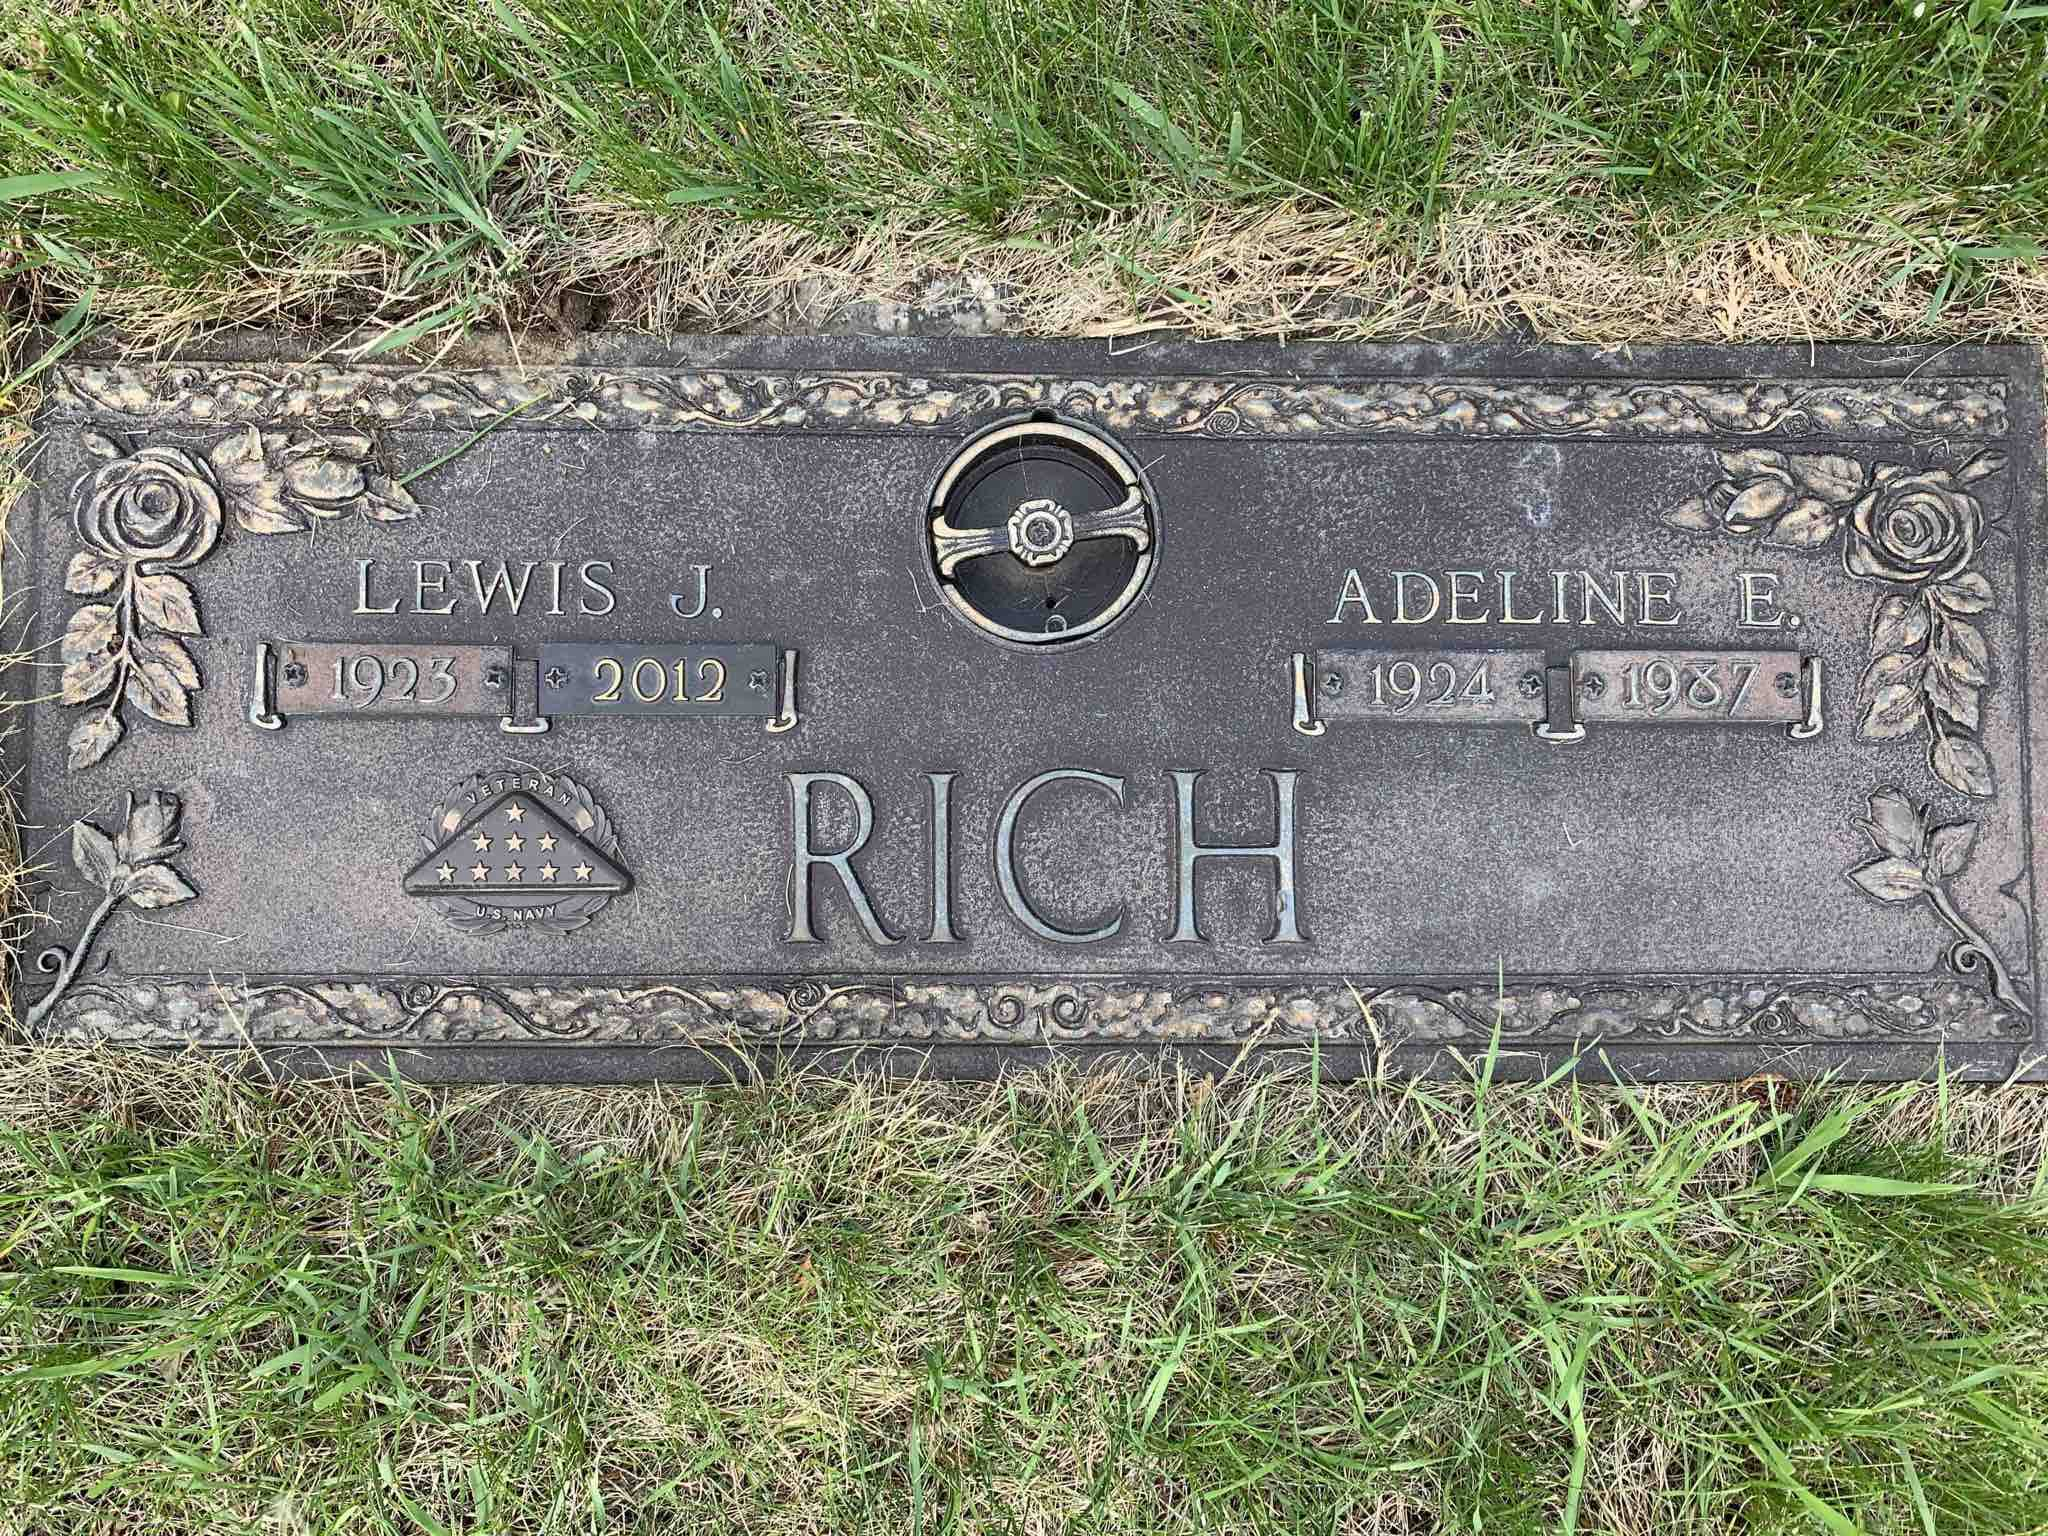flat: (15, 290, 2045, 1125)
